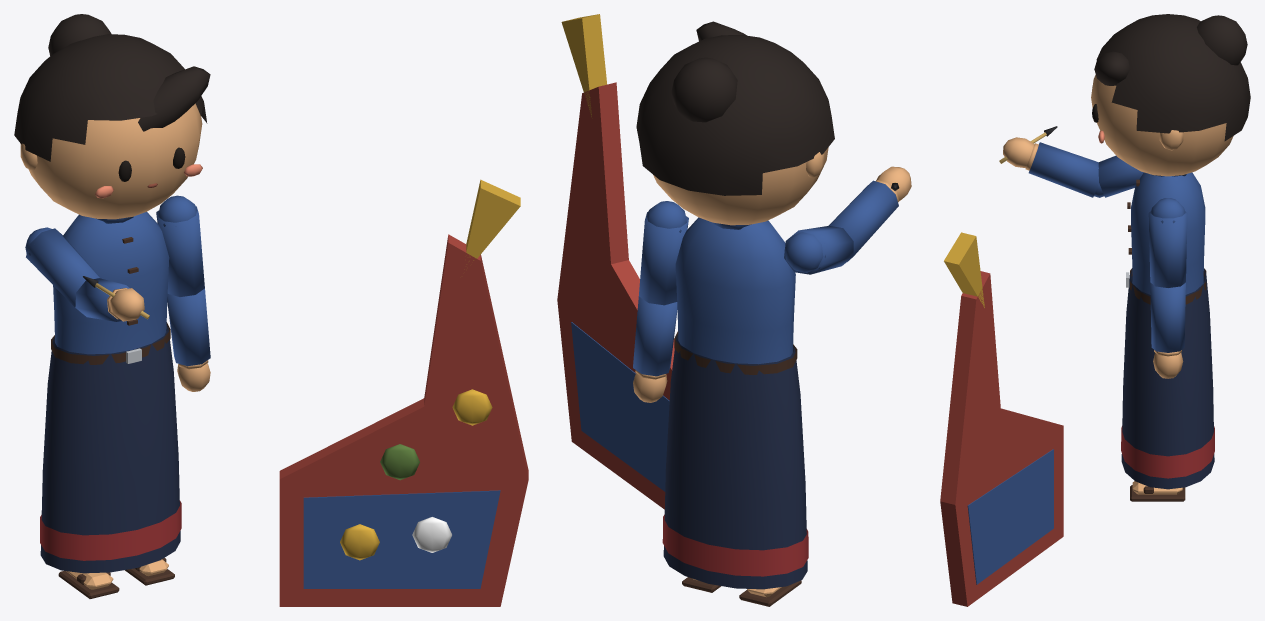
The model's file is south_korlae_painter.glb.
3 views of the same model, side by side, from view 1: azimuth 30°, elevation 25°; view 2: azimuth 150°, elevation 25°; view 3: azimuth 270°, elevation 25° (orthographic). The views are drawn at different scales.
Visible parts, largest first — view 1: prop_korlae_prow, body, head, arm_L, forearm_L, arm_R, forearm_R, shin_R, shin_L; view 2: body, head, prop_korlae_prow, arm_L, forearm_L, forearm_R, arm_R, shin_R; view 3: prop_korlae_prow, head, body, forearm_R, arm_L, forearm_L, arm_R, shin_L.
Boxes of the visible parts, x1=… form: prop_korlae_prow: x1=279, y1=179, x2=528, y2=606; body: x1=40, y1=212, x2=181, y2=573; head: x1=14, y1=14, x2=210, y2=219; arm_L: x1=156, y1=195, x2=204, y2=296; forearm_L: x1=167, y1=288, x2=210, y2=391; arm_R: x1=25, y1=227, x2=100, y2=313; forearm_R: x1=75, y1=278, x2=144, y2=321; shin_R: x1=58, y1=571, x2=119, y2=598; shin_L: x1=124, y1=558, x2=174, y2=585; body: x1=662, y1=217, x2=808, y2=589; head: x1=636, y1=21, x2=834, y2=225; prop_korlae_prow: x1=557, y1=14, x2=674, y2=509; arm_L: x1=639, y1=201, x2=688, y2=305; forearm_L: x1=633, y1=296, x2=677, y2=402; forearm_R: x1=828, y1=166, x2=911, y2=261; arm_R: x1=784, y1=226, x2=853, y2=274; shin_R: x1=739, y1=580, x2=801, y2=606; prop_korlae_prow: x1=940, y1=232, x2=1063, y2=606; head: x1=1091, y1=14, x2=1250, y2=176; body: x1=1121, y1=172, x2=1214, y2=489; forearm_R: x1=1003, y1=137, x2=1103, y2=197; arm_L: x1=1148, y1=198, x2=1187, y2=287; forearm_L: x1=1150, y1=282, x2=1185, y2=378; arm_R: x1=1094, y1=155, x2=1143, y2=197; shin_L: x1=1130, y1=481, x2=1185, y2=501.
Bounding box in the file's own units: 1.11 × 1.49 × 0.8879.
